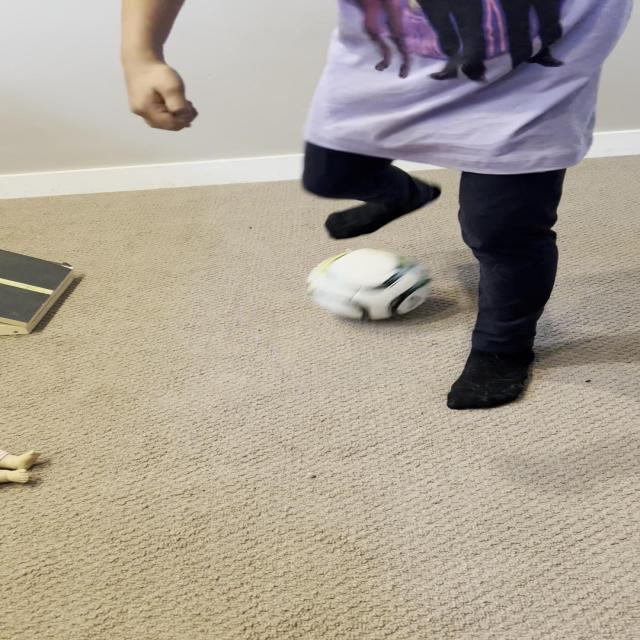Soccer Ball: (308, 248, 432, 320)
